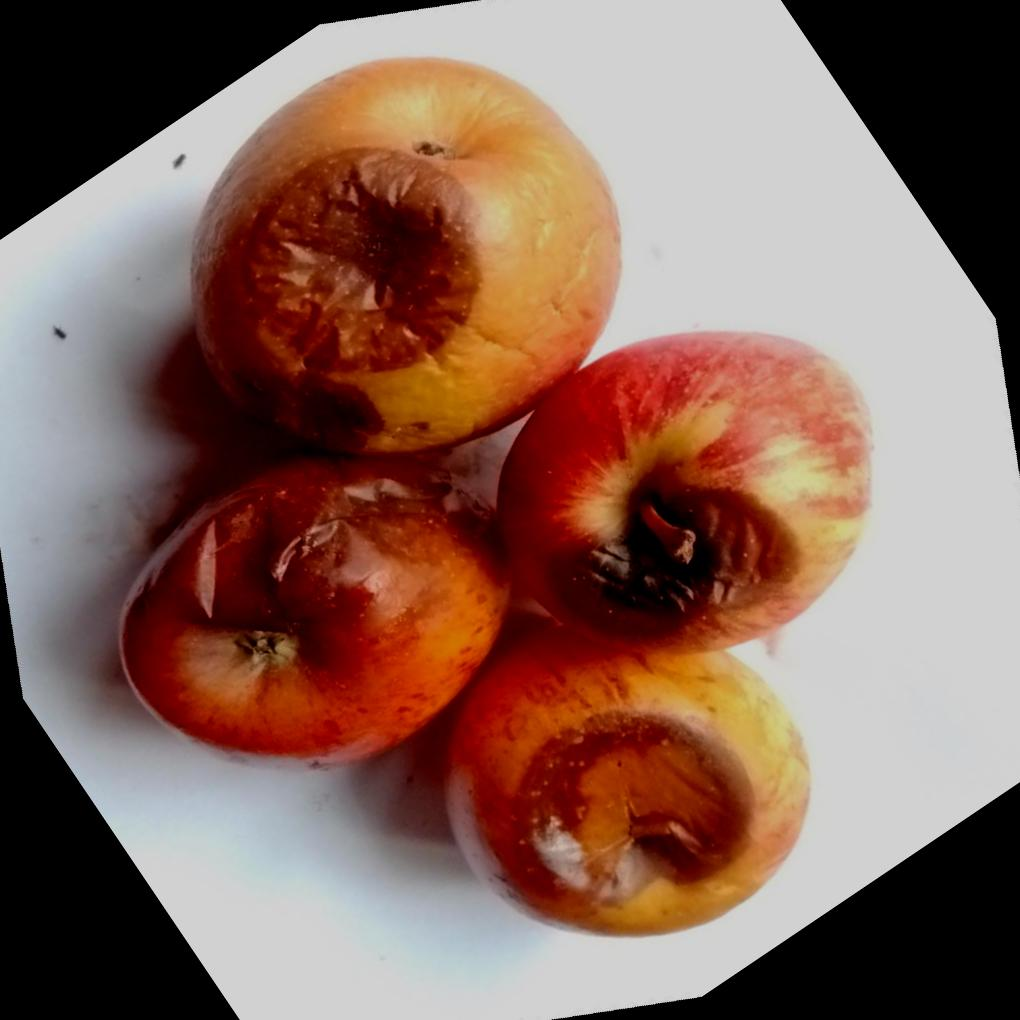FreshOrange: (138, 56, 874, 934)
